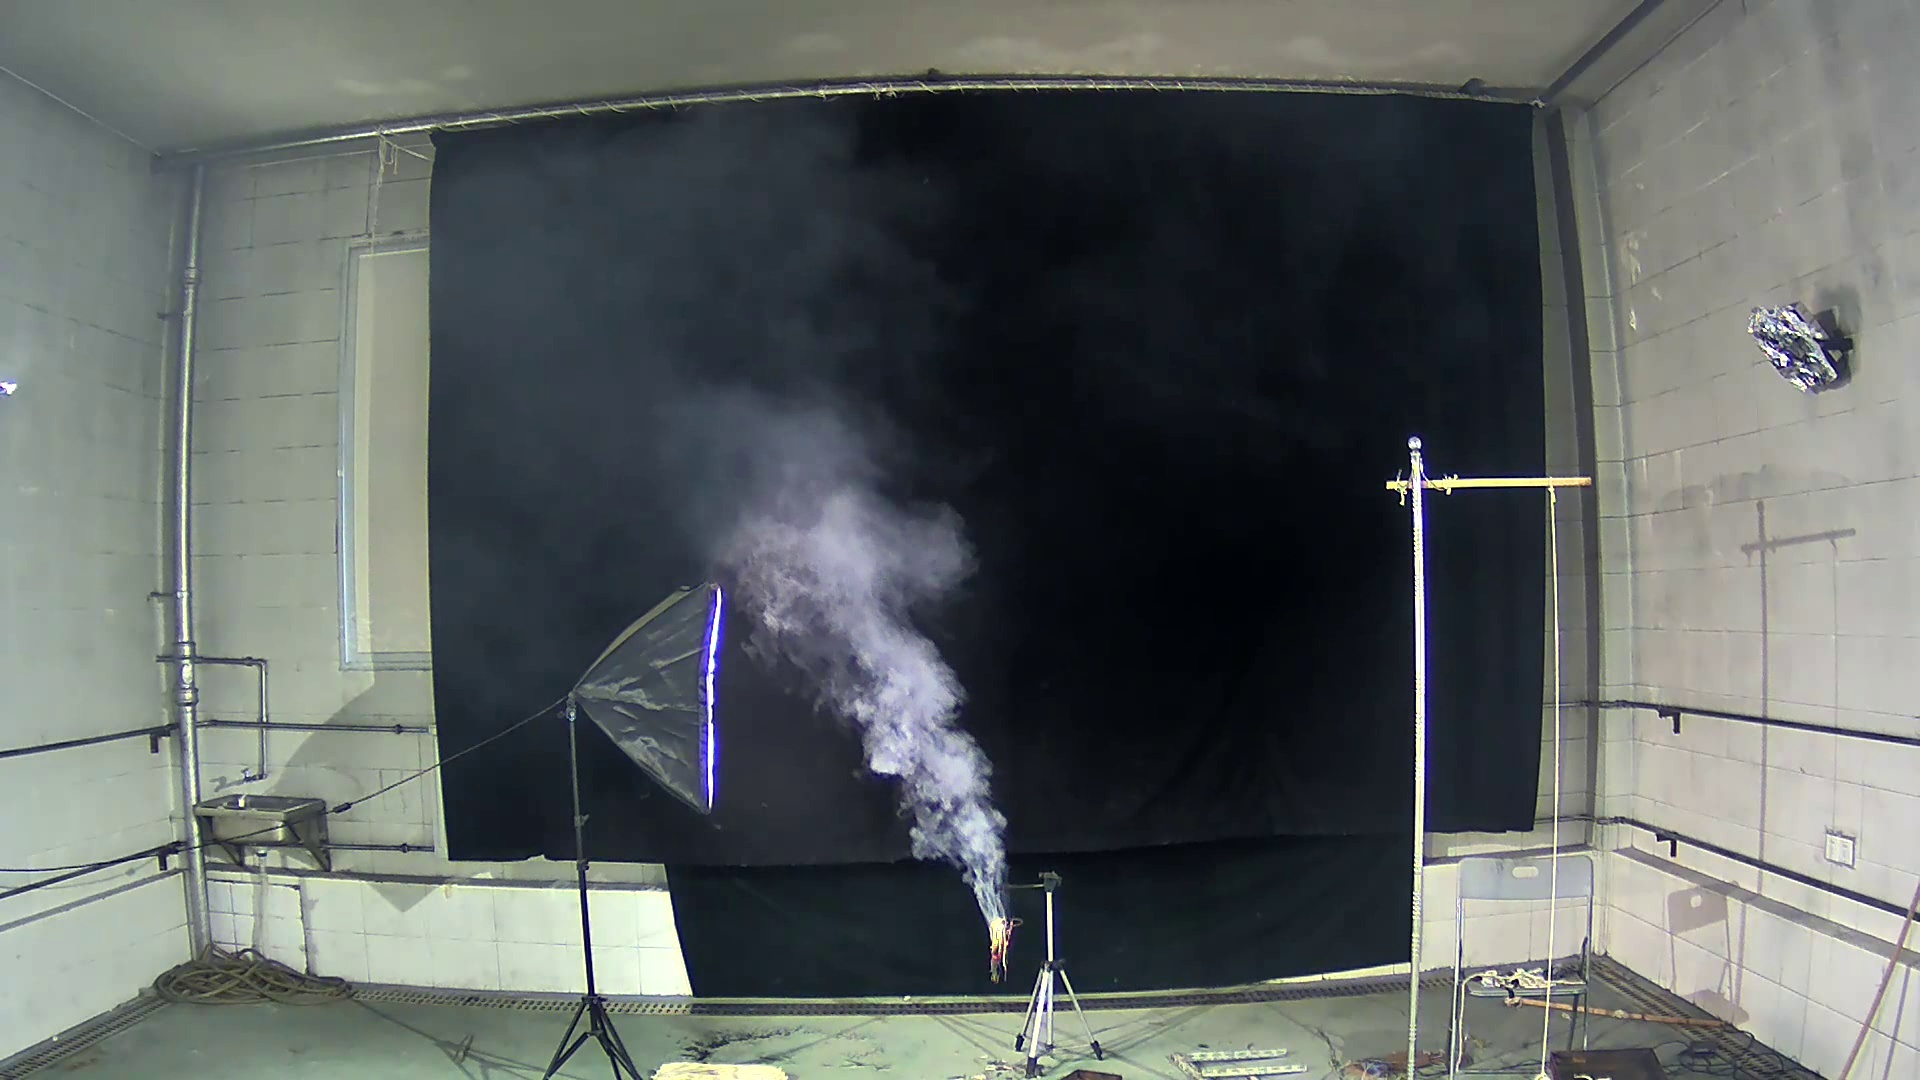smoke: (673, 384, 1046, 938)
